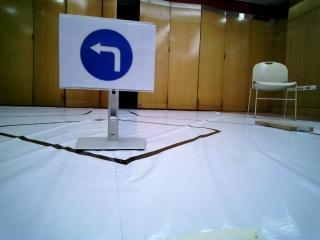left: (62, 20, 151, 91)
